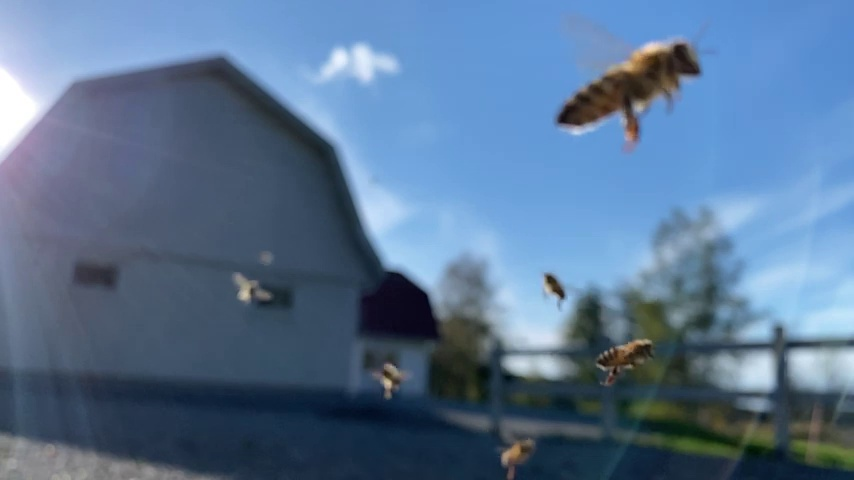insect: (551, 9, 723, 147), (595, 338, 658, 385), (492, 435, 541, 480), (372, 362, 415, 400), (539, 270, 568, 312)
